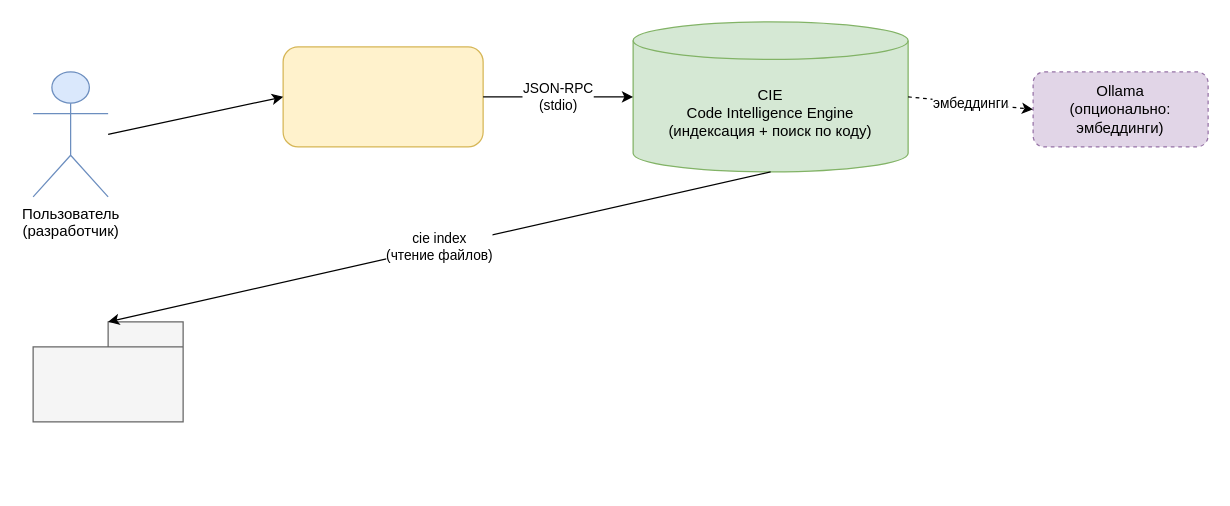
This 1230x506 diagram has some shape labels left out. Here are the shapes that lost their labels. From the top down, the centre of each, then its label:
point (382, 96): AI-агент (Cursor / Claude Code / MCP-клиент)
point (107, 371): Исходный код (репозиторий / локальная папка)
